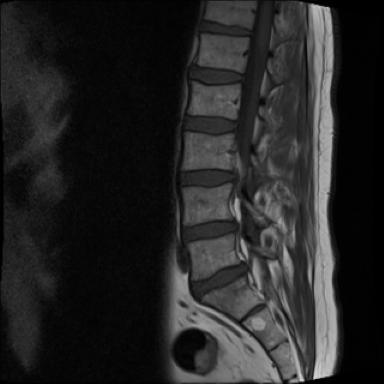Degenerative Disc Disease (DDD): (194, 17, 257, 40)
Lumbar Disc Bulge (LDB): (184, 251, 255, 307), (176, 209, 246, 248), (175, 161, 246, 190)
Normal IVD: (175, 112, 242, 140), (183, 61, 247, 88)
Spinal Stenosis (SS): (220, 215, 248, 248), (233, 253, 258, 289), (226, 163, 245, 187)
